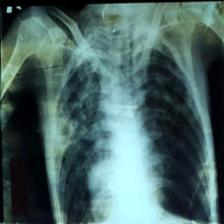tuberculosis: (46, 17, 216, 224)
